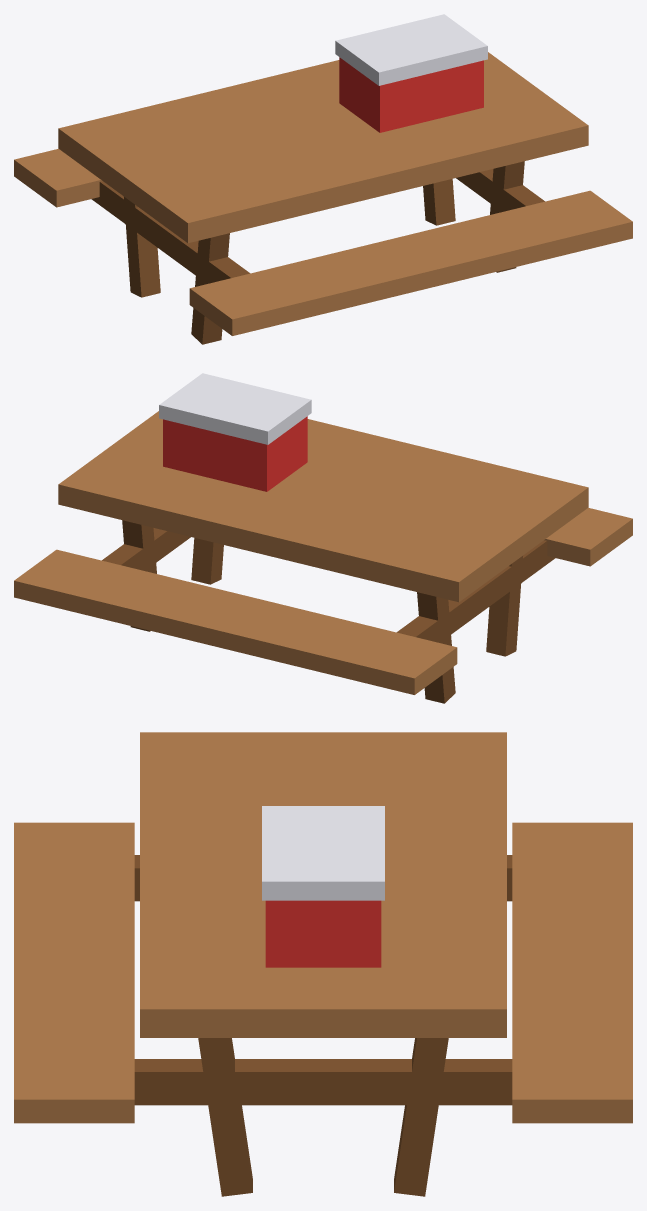
File: picnic_table.glb
The picture shows the model from 3 angles, top to bottom: view 1: azimuth 30°, elevation 25°; view 2: azimuth 150°, elevation 25°; view 3: azimuth 270°, elevation 25°; orthographic projection. The views are drawn at different scales.
Parts seen in each view (by area): view 1: Tabletop, BenchR, CoolerBody, CoolerLid, BenchSupport, BenchL, Leg, _MeshInstance3D_26, _MeshInstance3D_29, _MeshInstance3D_27, _MeshInstance3D_28; view 2: Tabletop, BenchL, CoolerBody, CoolerLid, BenchSupport, BenchR, _MeshInstance3D_26, Leg, _MeshInstance3D_29, _MeshInstance3D_28, _MeshInstance3D_27; view 3: Tabletop, BenchL, BenchR, _MeshInstance3D_29, CoolerLid, CoolerBody, _MeshInstance3D_28, _MeshInstance3D_27.
Boxes of the visible parts, x1,y1,x2,y2 form: Tabletop: (58, 52, 588, 243); BenchR: (189, 190, 632, 335); CoolerBody: (339, 57, 483, 132); CoolerLid: (335, 14, 487, 85); BenchSupport: (91, 181, 250, 283); BenchL: (14, 149, 102, 207); Leg: (124, 197, 160, 297); _MeshInstance3D_26: (191, 233, 229, 344); _MeshInstance3D_29: (456, 169, 544, 211); _MeshInstance3D_27: (423, 179, 455, 225); _MeshInstance3D_28: (490, 161, 524, 272); Tabletop: (58, 411, 588, 602); BenchL: (14, 549, 457, 694); CoolerBody: (163, 416, 307, 491); CoolerLid: (159, 373, 311, 444); BenchSupport: (396, 540, 555, 642); BenchR: (544, 508, 632, 566); _MeshInstance3D_26: (486, 556, 522, 656); Leg: (417, 592, 455, 703); _MeshInstance3D_29: (102, 528, 190, 570); _MeshInstance3D_28: (191, 538, 223, 584); _MeshInstance3D_27: (122, 520, 156, 631); Tabletop: (140, 732, 506, 1037); BenchL: (512, 822, 632, 1123); BenchR: (14, 822, 134, 1123); _MeshInstance3D_29: (134, 1059, 512, 1105); CoolerLid: (262, 806, 384, 900); CoolerBody: (265, 900, 381, 967); _MeshInstance3D_28: (198, 1038, 252, 1196); _MeshInstance3D_27: (394, 1038, 448, 1196).
Bounding box in the file's own units: 2.5 × 1.28 × 2.36.
